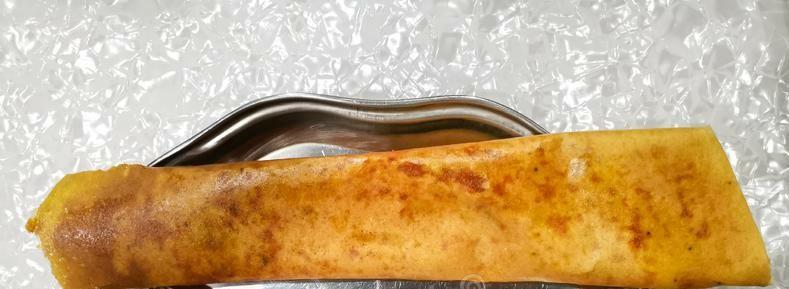Dosa: (25, 126, 771, 289)
